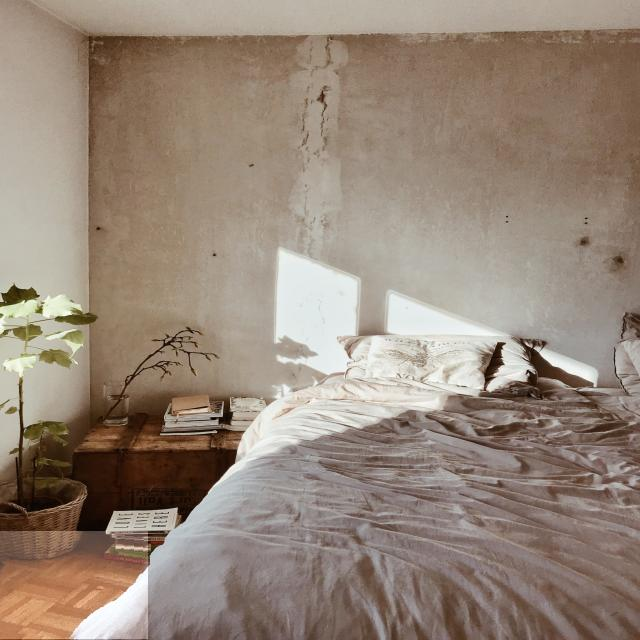floor: (0, 531, 148, 640)
